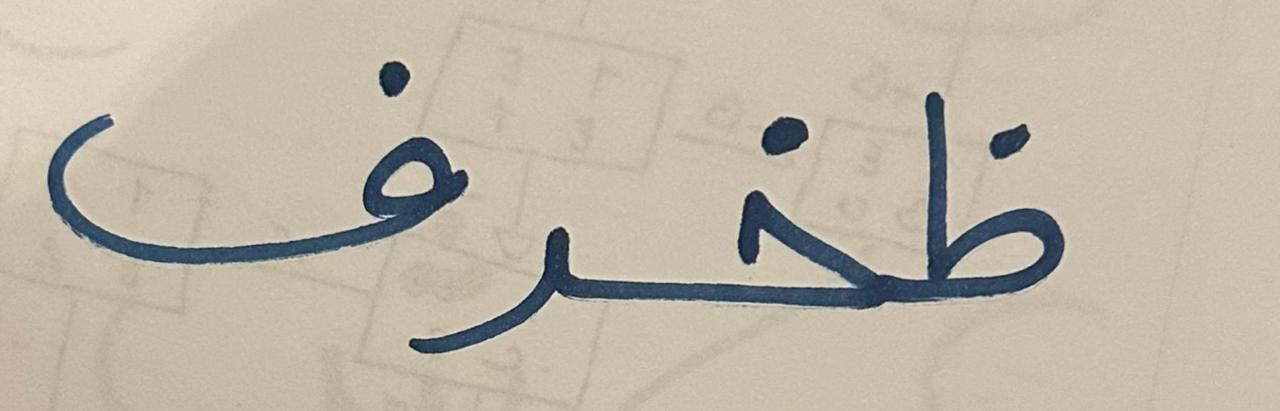feh: (27, 26, 473, 284)
lam: (605, 30, 882, 359)
sad: (478, 153, 599, 368)
zain: (887, 23, 1118, 359)
